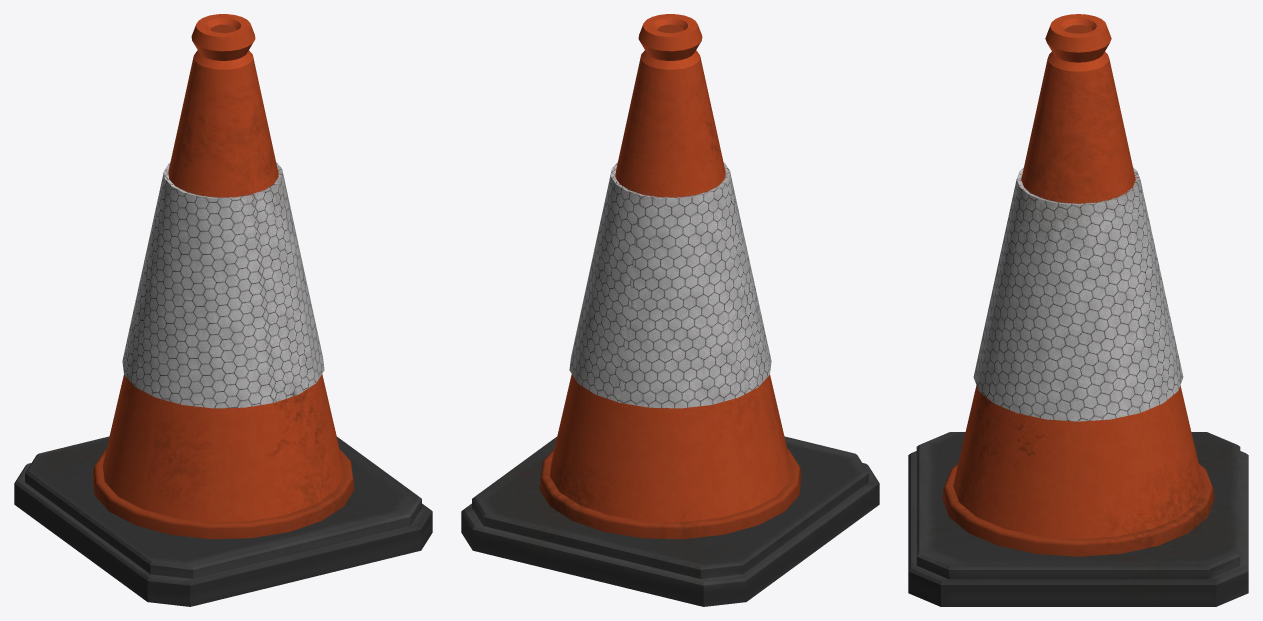
File: traffic-cone.fbx
The picture shows the model from 3 angles, left to right: view 1: azimuth 30°, elevation 25°; view 2: azimuth 150°, elevation 25°; view 3: azimuth 270°, elevation 25°; orthographic projection. The views are drawn at different scales.
Parts seen in each view (by area): view 1: defaultMaterial; view 2: defaultMaterial; view 3: defaultMaterial.
Boxes of the visible parts, x1,y1,x2,y2 form: defaultMaterial: (14, 14, 432, 606); defaultMaterial: (461, 14, 879, 606); defaultMaterial: (908, 14, 1248, 606).
Bounding box in the file's own units: 27.43 × 45.33 × 27.43.
